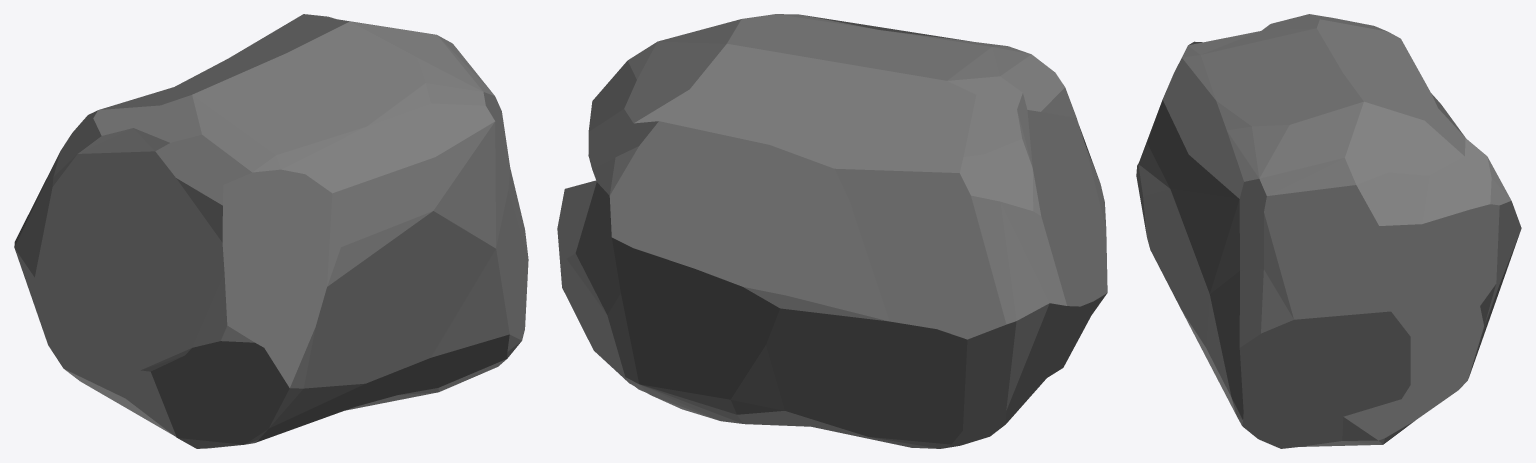
File: rock5.obj
3 views of the same model, side by side, from view 1: azimuth 30°, elevation 25°; view 2: azimuth 150°, elevation 25°; view 3: azimuth 270°, elevation 25° (orthographic). The views are drawn at different scales.
Parts seen in each view (by area): view 1: Cube; view 2: Cube; view 3: Cube.
Boxes of the visible parts, left/top/right/bottom form: Cube: left=14, top=14, right=528, bottom=448; Cube: left=557, top=14, right=1107, bottom=448; Cube: left=1136, top=14, right=1521, bottom=448.
Size of the model in its own units: 4.44 by 3.27 by 3.52.
1 material, 1 textured.
